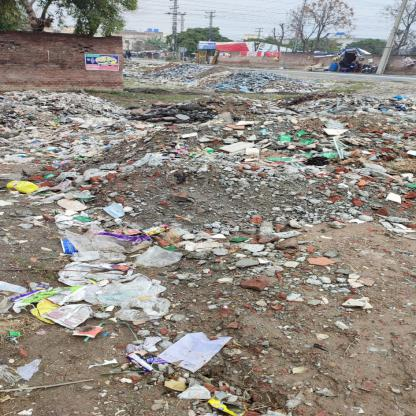Garbage: (10, 173, 266, 416), (167, 84, 416, 225)
